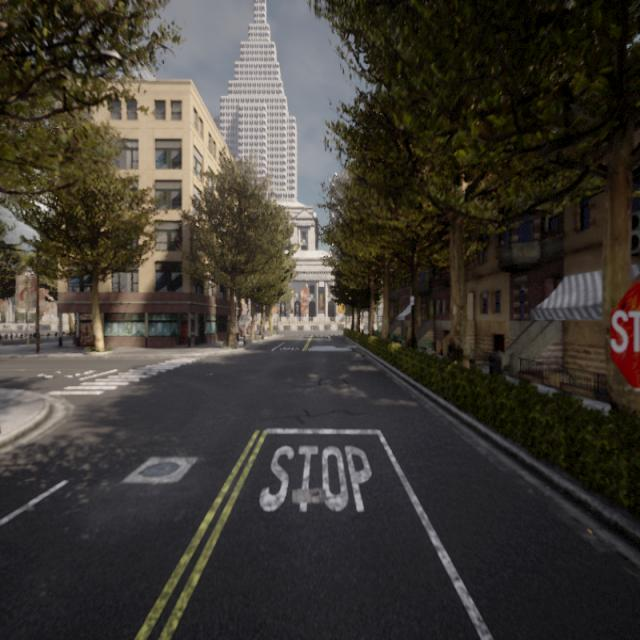stop sign: (605, 275, 638, 393)
